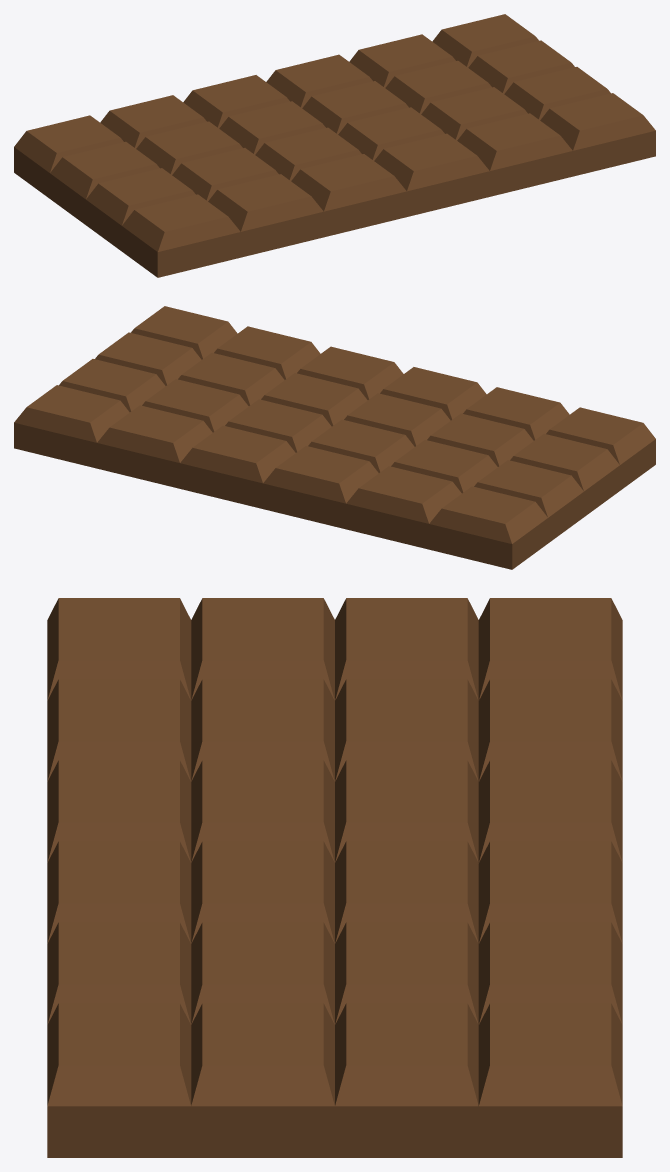
File: GGJ_Chocolat.fbx
3 renders of one model, top to bottom at view 1: azimuth 30°, elevation 25°; view 2: azimuth 150°, elevation 25°; view 3: azimuth 270°, elevation 25°, orthographic. The views are drawn at different scales.
Parts seen in each view (by area): view 1: Chocolate; view 2: Chocolate; view 3: Chocolate.
Part boxes in pixels (x1,y1,x2,y2): Chocolate: [14, 14, 655, 277]; Chocolate: [14, 306, 655, 569]; Chocolate: [47, 598, 622, 1157].
Bounding box in the file's own units: 20 × 1.59 × 10.
Materials: 1 (1 with a texture image).
